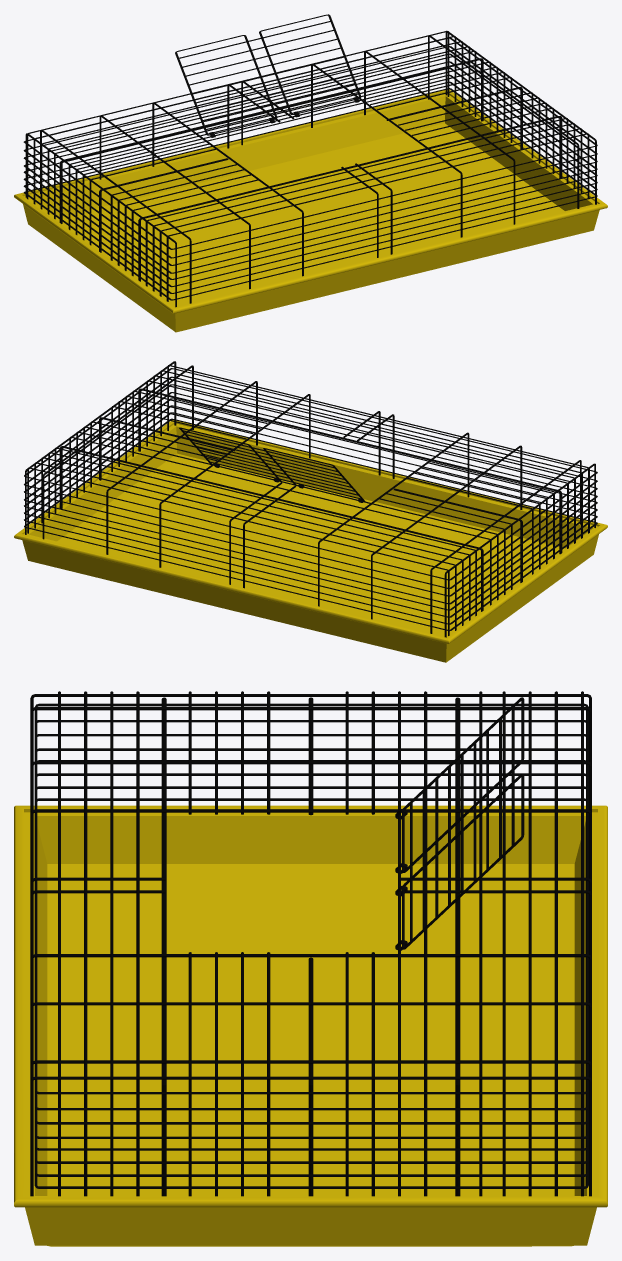
File: SM_Cage.fbx
3 renders of one model, top to bottom at view 1: azimuth 30°, elevation 25°; view 2: azimuth 150°, elevation 25°; view 3: azimuth 270°, elevation 25°, orthographic. The views are drawn at different scales.
Parts seen in each view (by area): view 1: pTorus72; view 2: pTorus72; view 3: pTorus72.
Part boxes in pixels (box(x1,y1,x2,y2)): pTorus72: box(14, 14, 607, 332); pTorus72: box(14, 361, 607, 662); pTorus72: box(14, 691, 607, 1246).
Bounding box in the file's own units: 234 × 80.99 × 148.
